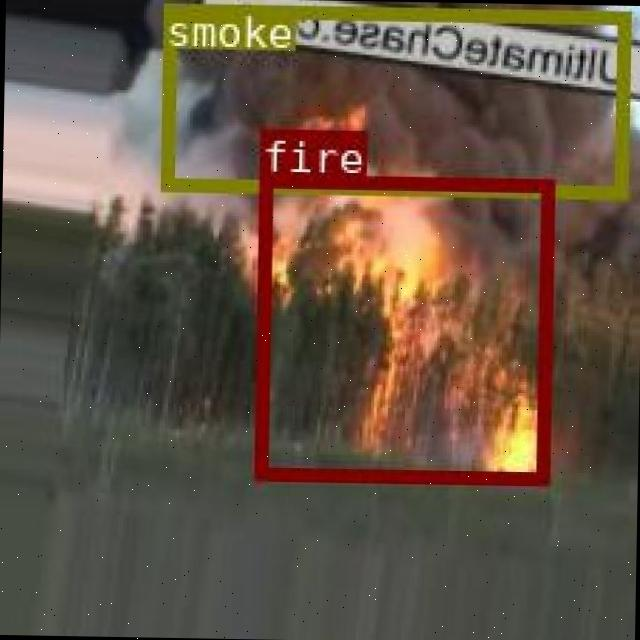fire: (254, 172, 552, 480)
smoke: (160, 2, 628, 196)
